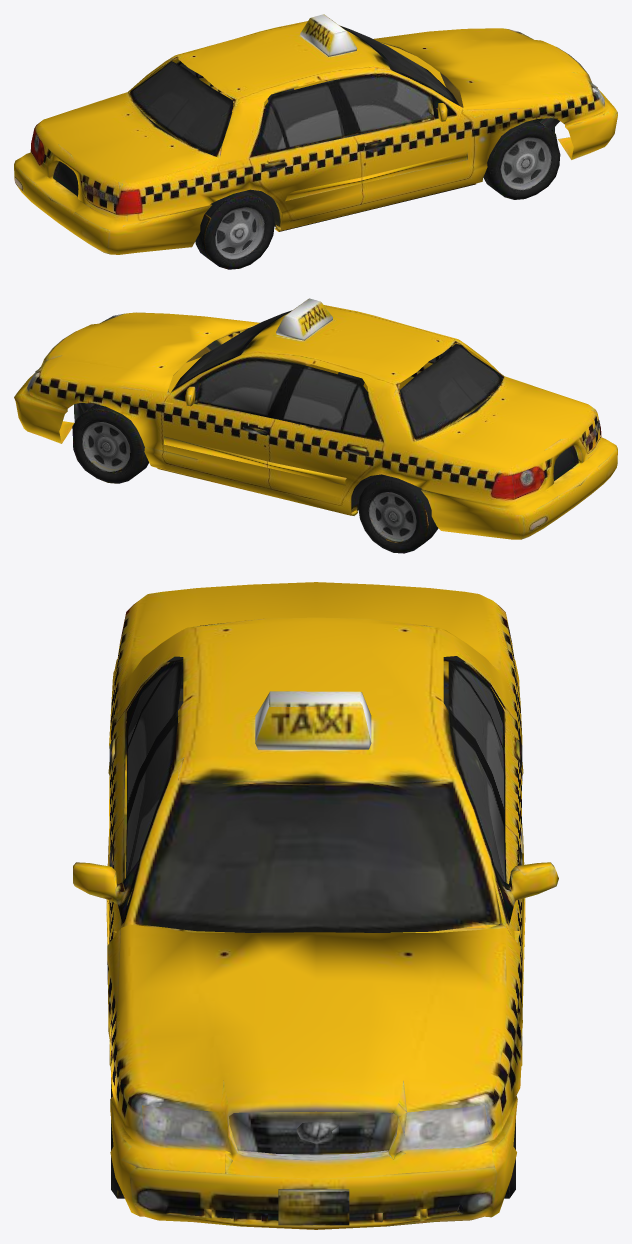
Rendered from taxi.glb.
3 views of the same model, one above another, from view 1: azimuth 30°, elevation 25°; view 2: azimuth 150°, elevation 25°; view 3: azimuth 270°, elevation 25° (orthographic). The views are drawn at different scales.
Parts seen in each view (by area): view 1: rue_taxi; view 2: rue_taxi; view 3: rue_taxi.
Boxes of the visible parts, x1,y1,x2,y2 form: rue_taxi: (14,14,617,269); rue_taxi: (14,298,617,553); rue_taxi: (73,582,558,1229).
Bounding box in the file's own units: 4.75 × 1.48 × 1.86.
Materials: 1 (1 with a texture image).
